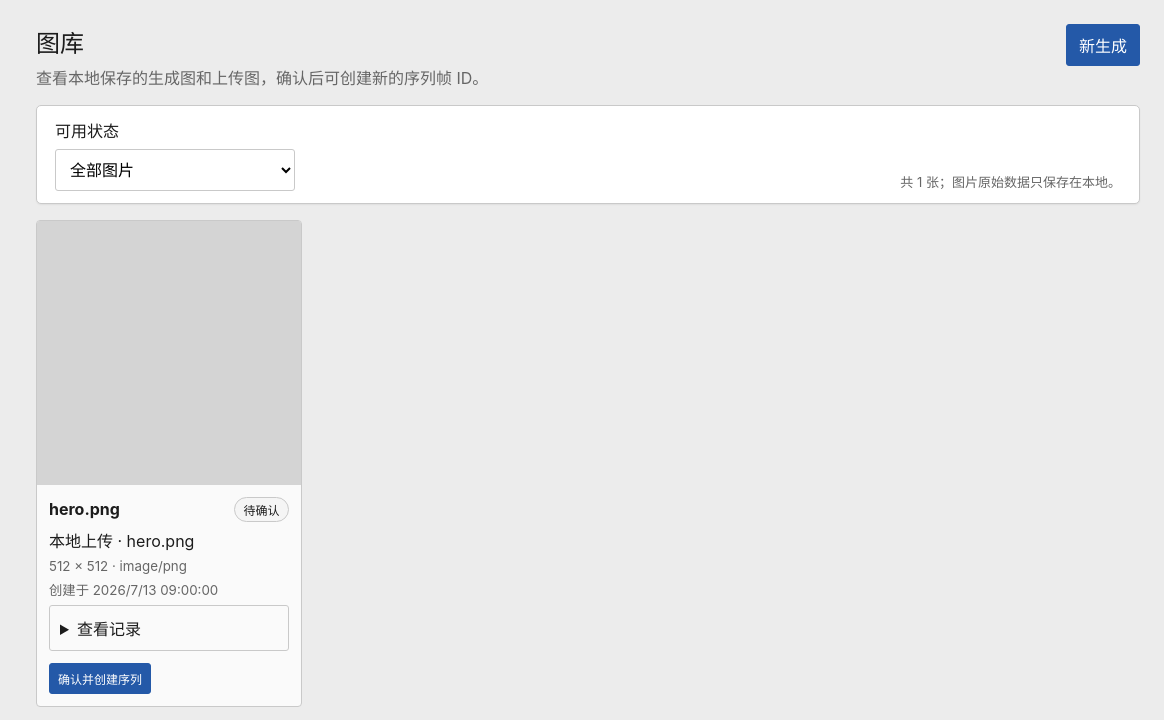
Test: ImageLibraryPage › keeps the user in the library when source confirmation fails
Click the button "确认并创建序列". click: (100, 678)
box: [49,662,151,694]
(page scrolled)
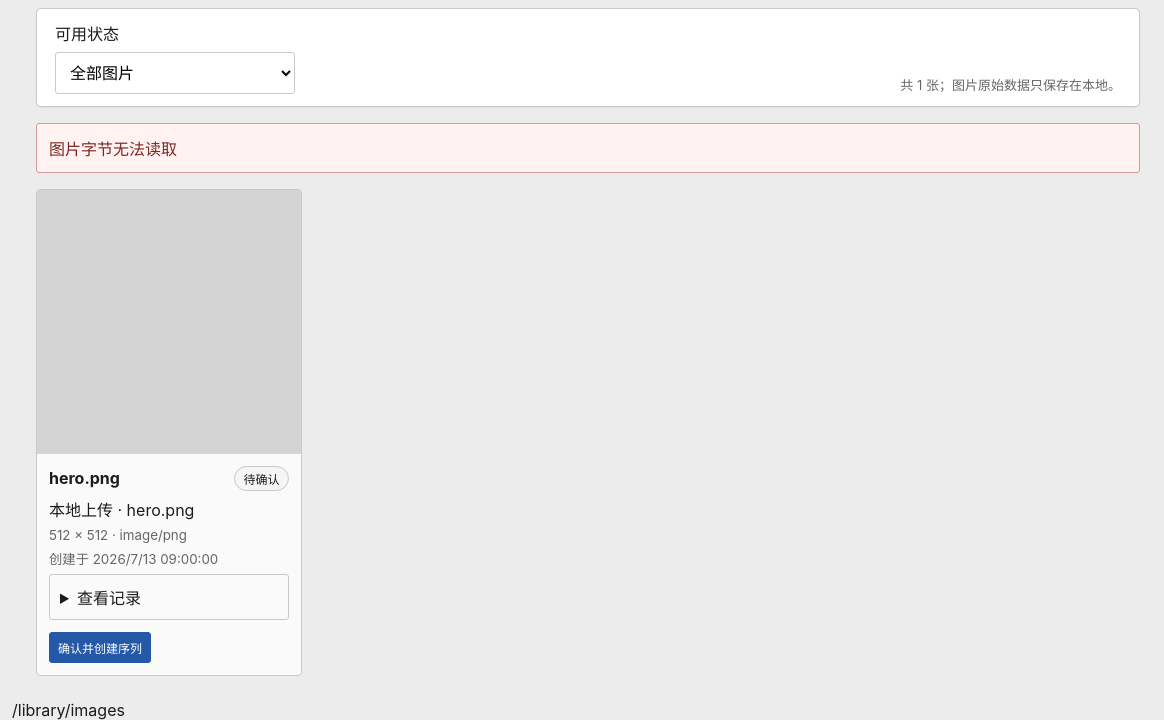
Expected: the text with test id "location" reads "/library/images", [12,700,125,719]
Expected: the message reads "图片字节无法读取", [49,139,177,159]
